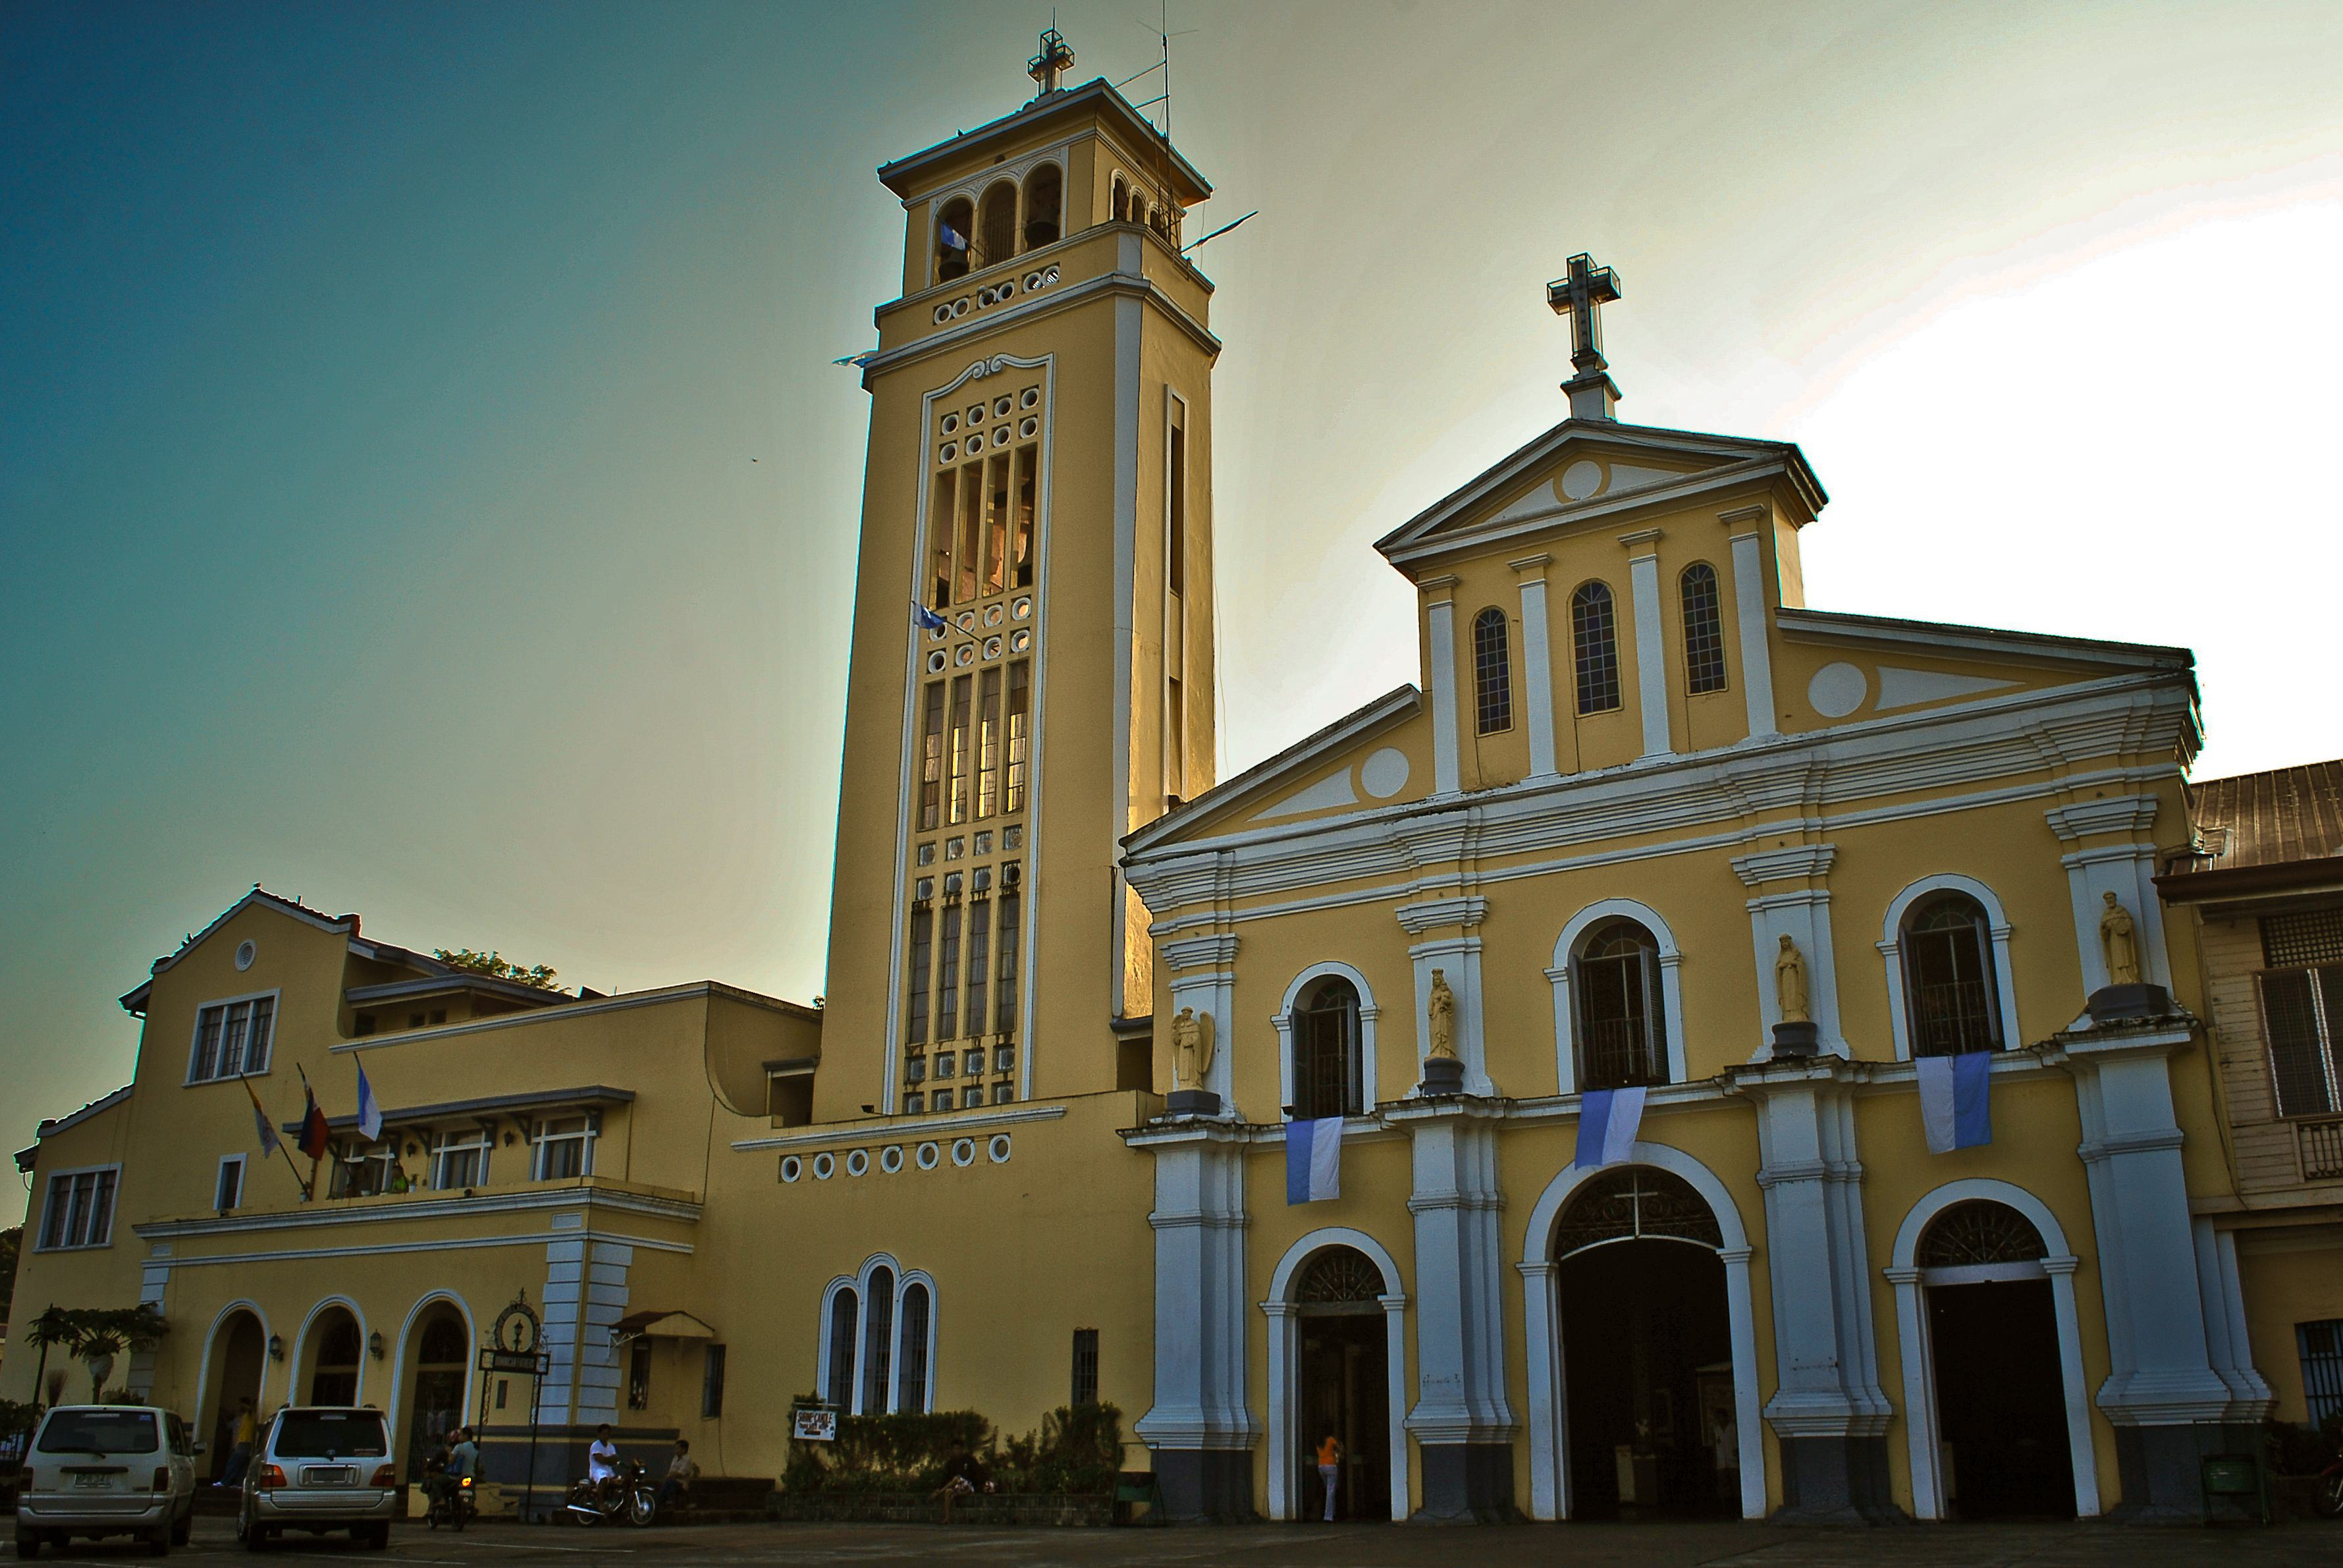manaoag_church_manaoag_pangasinan: (768, 19, 2277, 1538)
